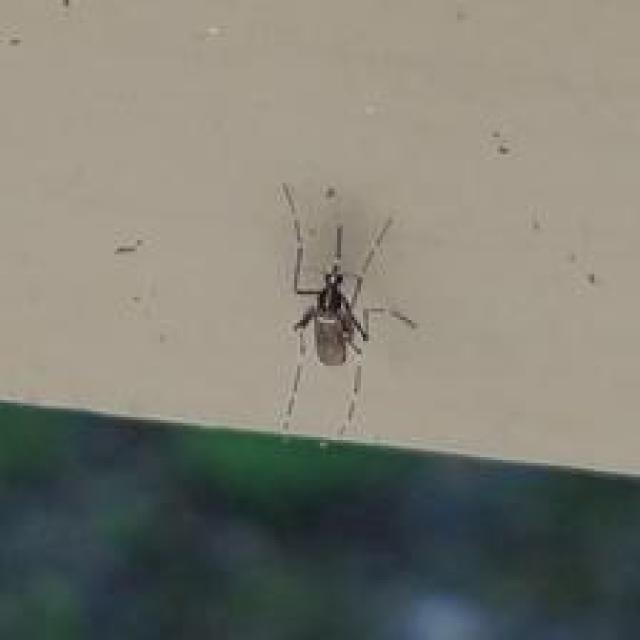Aedes albopictus: (274, 180, 417, 437)
